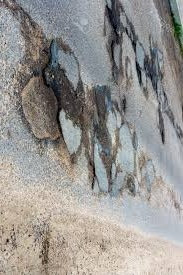pothole: (19, 73, 61, 140), (21, 22, 49, 78), (83, 87, 104, 139), (60, 69, 81, 110), (105, 6, 118, 62), (105, 133, 118, 169), (84, 157, 97, 188), (133, 58, 144, 89), (156, 110, 163, 144), (118, 97, 129, 117)
